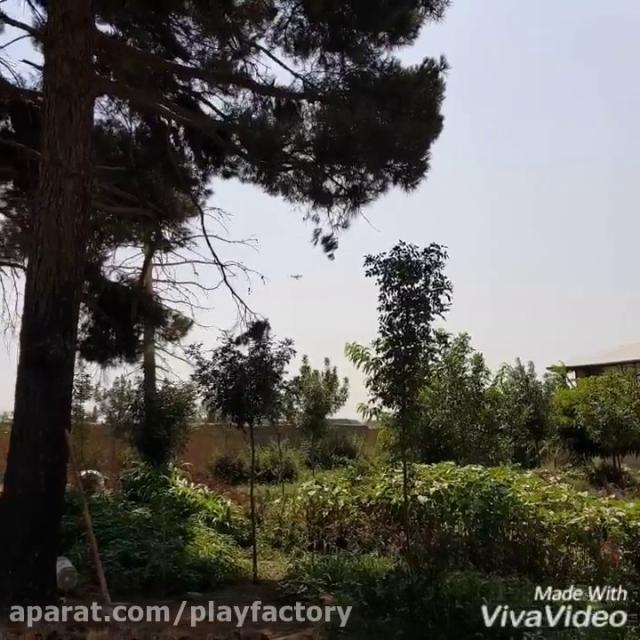drone: (288, 268, 304, 281)
